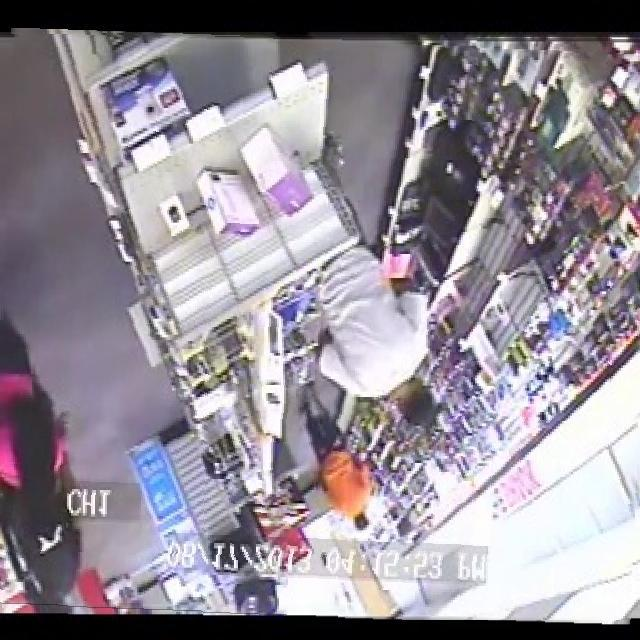normal: (0, 34, 640, 620)
